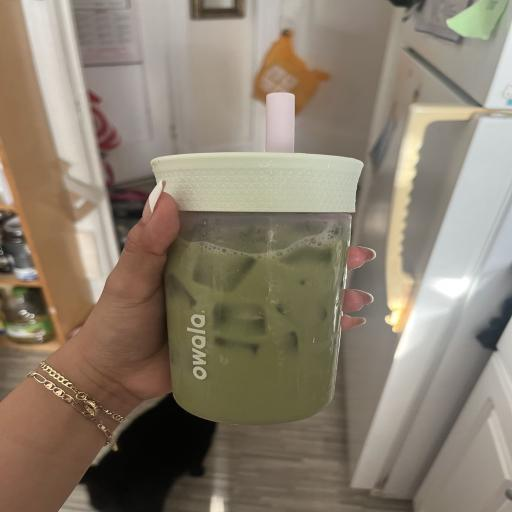bench: (151, 95, 363, 425)
